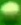white: (0, 0, 21, 25)
